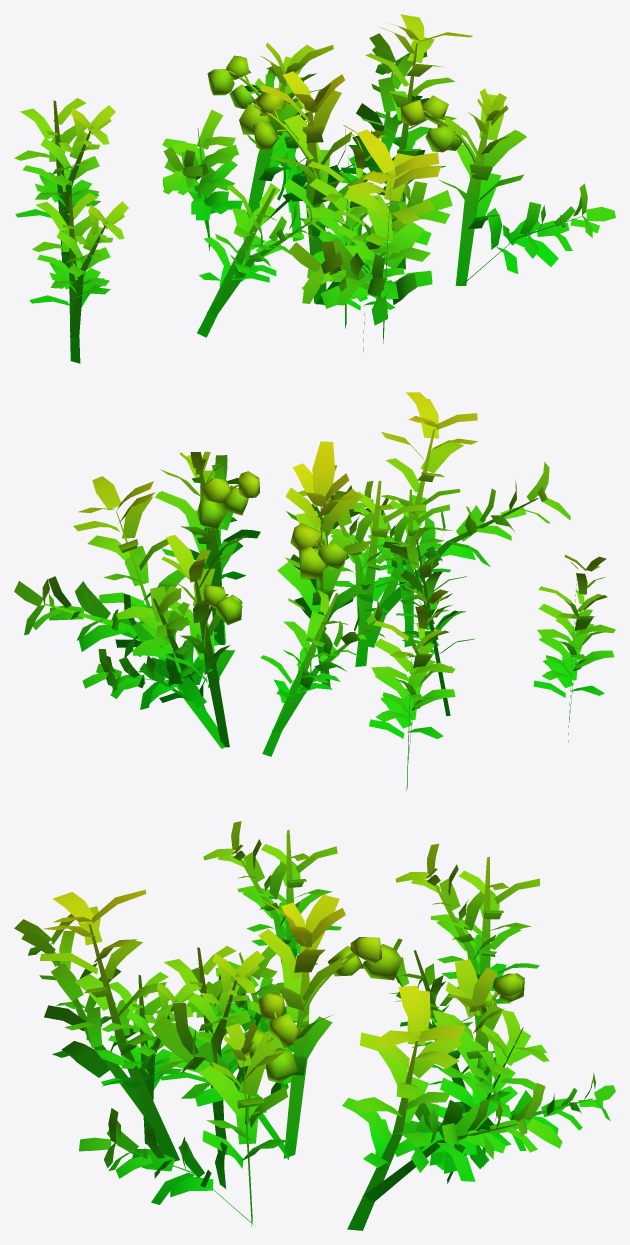
The model's file is Lingonberry_LOD3_Var5.fbx.
The picture shows the model from 3 angles, top to bottom: view 1: azimuth 30°, elevation 25°; view 2: azimuth 150°, elevation 25°; view 3: azimuth 270°, elevation 25°; orthographic projection. The views are drawn at different scales.
Visible parts, largest first — view 1: _v79m_Var5_LOD3; view 2: _v79m_Var5_LOD3; view 3: _v79m_Var5_LOD3.
Boxes of the visible parts, left/top/right/bottom form: _v79m_Var5_LOD3: left=14, top=14, right=615, bottom=363; _v79m_Var5_LOD3: left=14, top=392, right=615, bottom=790; _v79m_Var5_LOD3: left=14, top=821, right=615, bottom=1230.
Size of the model in its own units: 31.72 by 15.04 by 29.4.
